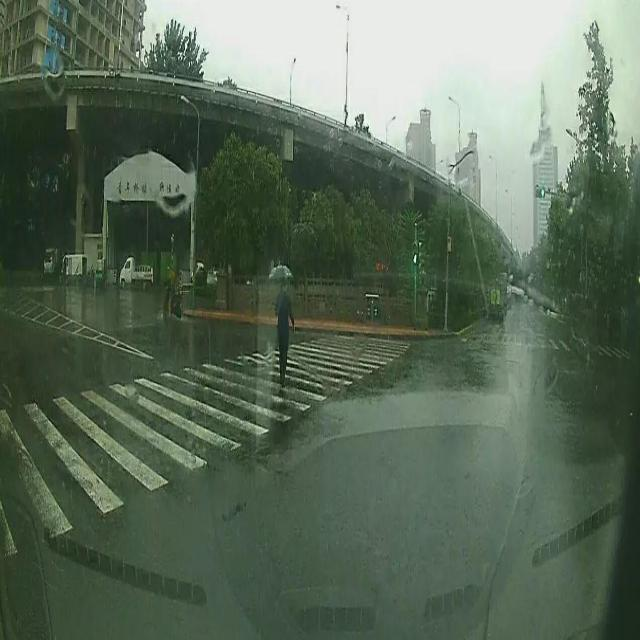car: (116, 255, 154, 291), (61, 250, 84, 280), (42, 245, 56, 275)
